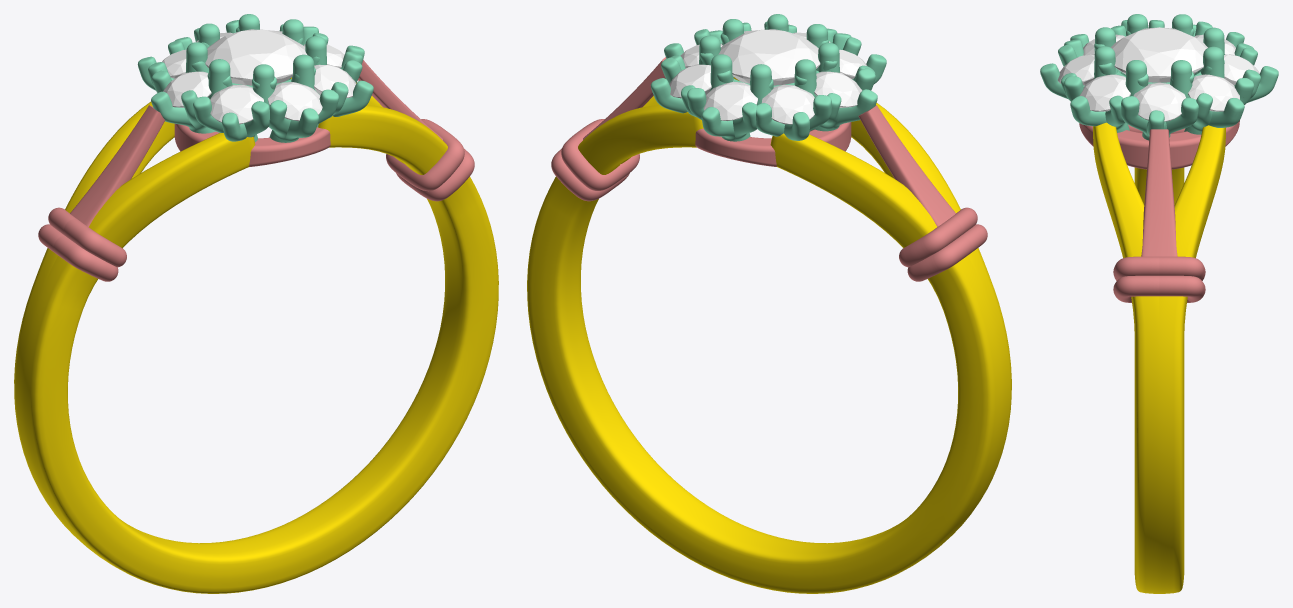
3 views of the same model, side by side, from view 1: azimuth 30°, elevation 25°; view 2: azimuth 150°, elevation 25°; view 3: azimuth 270°, elevation 25° (orthographic). The views are drawn at different scales.
Parts seen in each view (by area): view 1: clust3.3dm; view 2: clust3.3dm; view 3: clust3.3dm.
Part boxes in pixels (x1,y1,x2,y2): clust3.3dm: (14, 14, 498, 593); clust3.3dm: (527, 14, 1011, 593); clust3.3dm: (1040, 14, 1278, 593).
Bounding box in the file's own units: 2.57 × 2.84 × 1.16.
